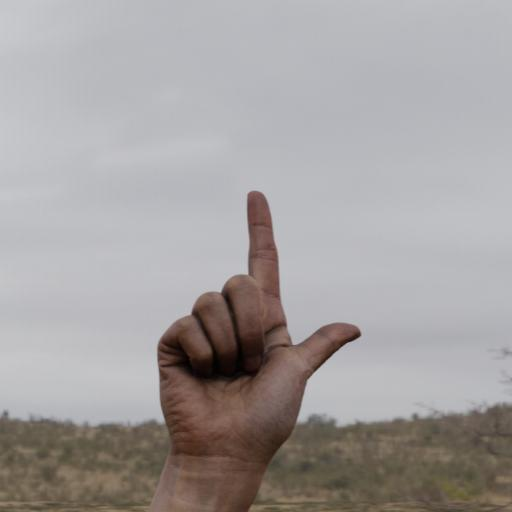L: (148, 187, 365, 479)
